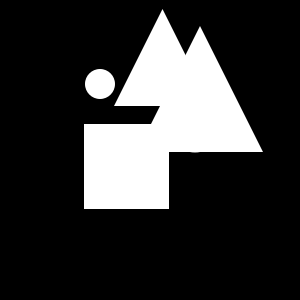circle: (84, 124, 169, 209)
rectangle: (168, 98, 222, 152), (85, 69, 115, 99)
triangle: (137, 26, 263, 152), (114, 9, 211, 106)
